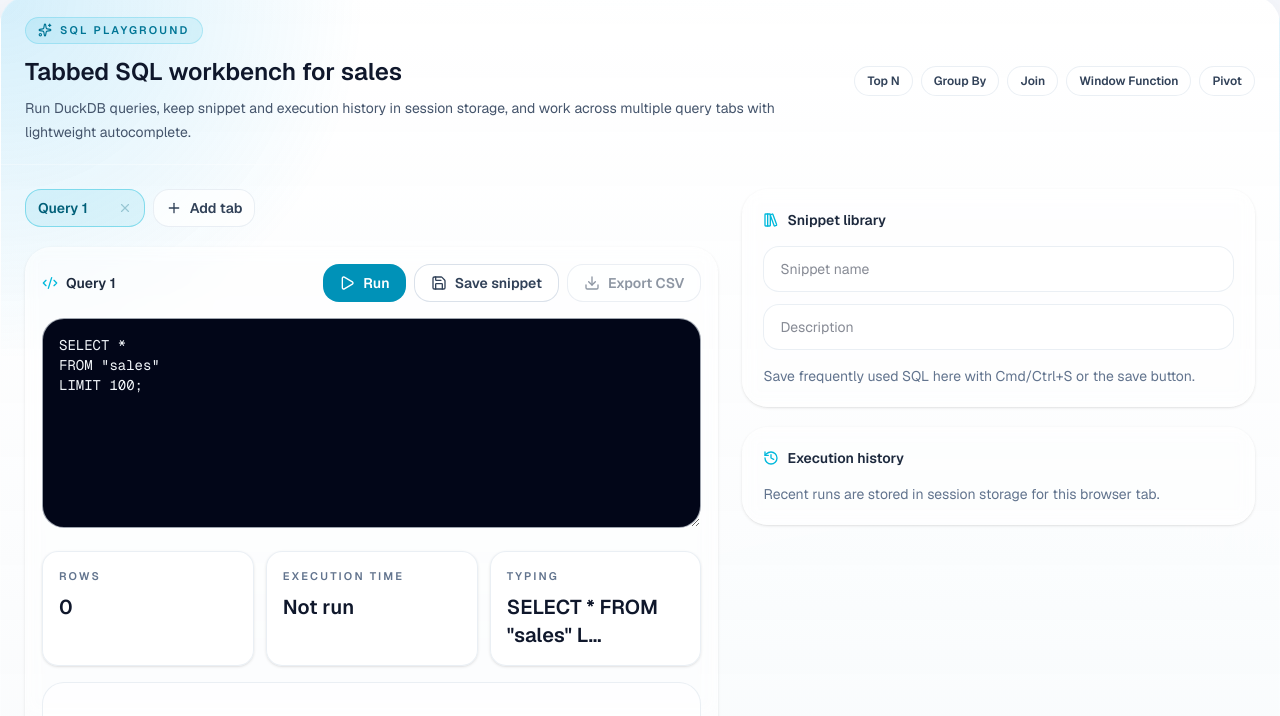
Test case: SQLPlayground › runs a query and records the execution in history
The image size is (1280, 716).
Step 1. Click the button "Run" → (365, 283), box [323,264,406,302]
(page scrolled)
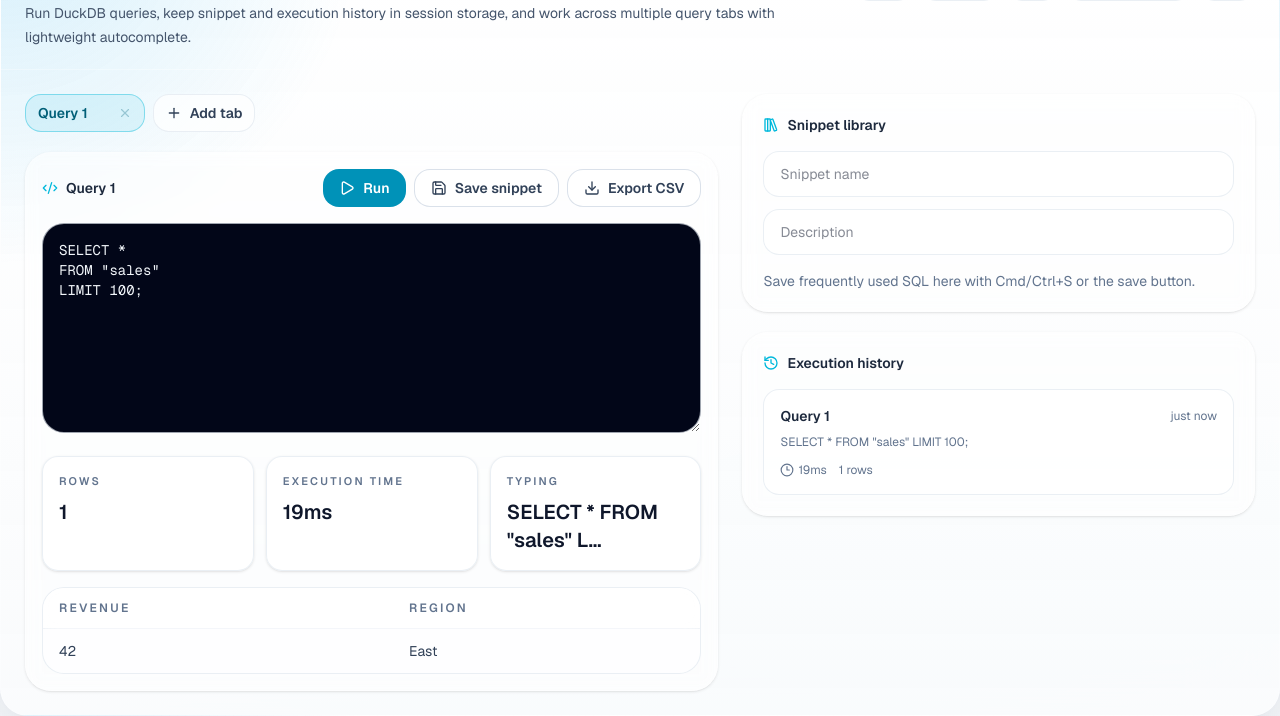
Result: the cell "42" is shown at [43,628,393,673]
Result: the cell "East" is shown at [393,628,700,673]
